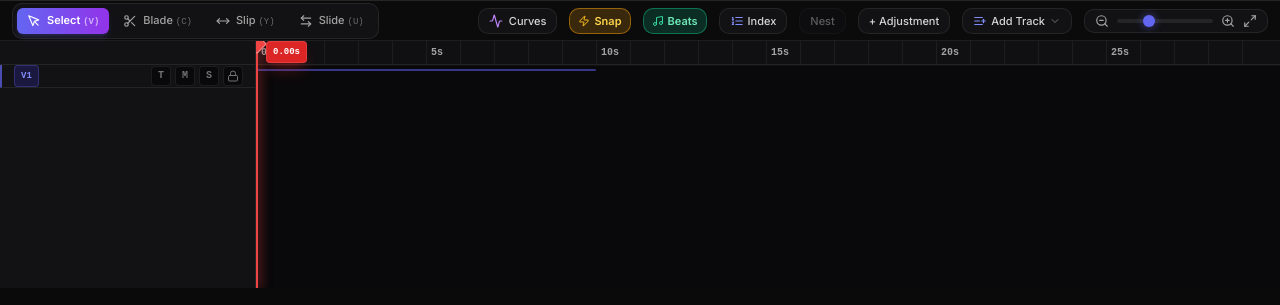
Scenario: TimelineTrackEditor R9.5 Features › opens context menu and deletes a clip
Right-click the text "Interview_Take1.mp4": (426, 70) [256,69,596,71]
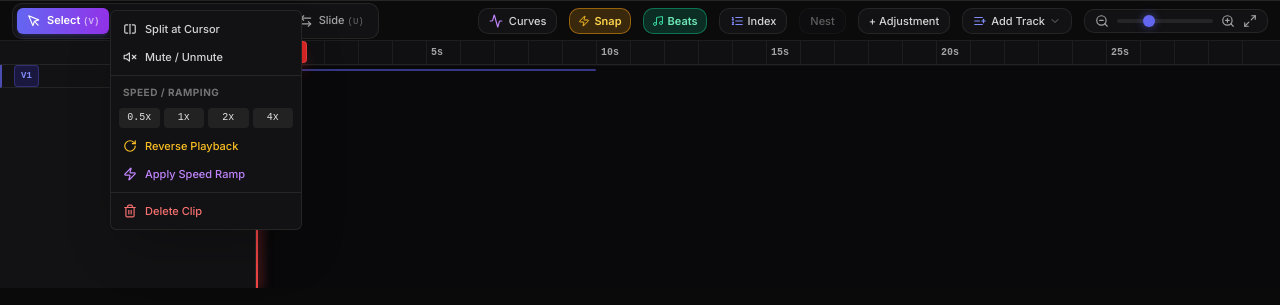
expect the text "Delete Clip" is shown: met, box [145,203,202,219]
Click the button "Delete Clip": (206, 211) [111,197,301,225]
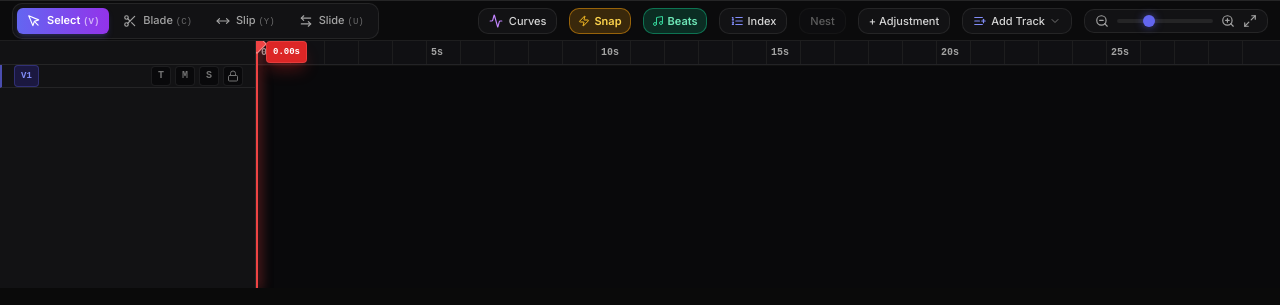
expect the button "Delete Clip" is gone: met
